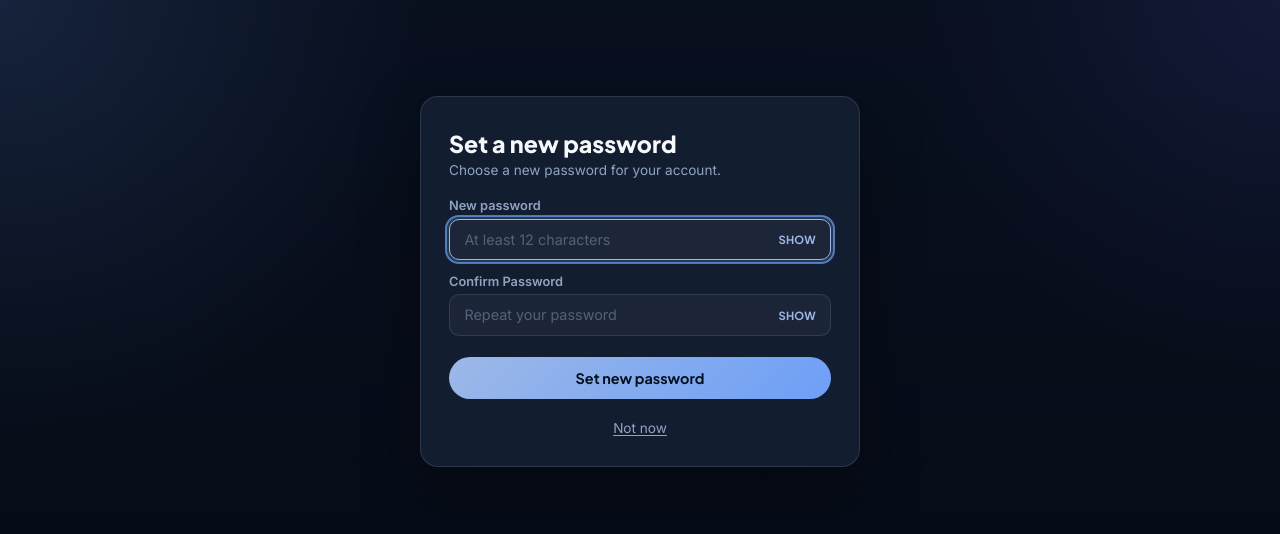
Test: ResetPassword page › shows a translated message, not the raw server text, when the update fails
Type "N3w!Password-ok" into the password field labelled "New password Show". click: (640, 239)
box: [449,219,831,260]
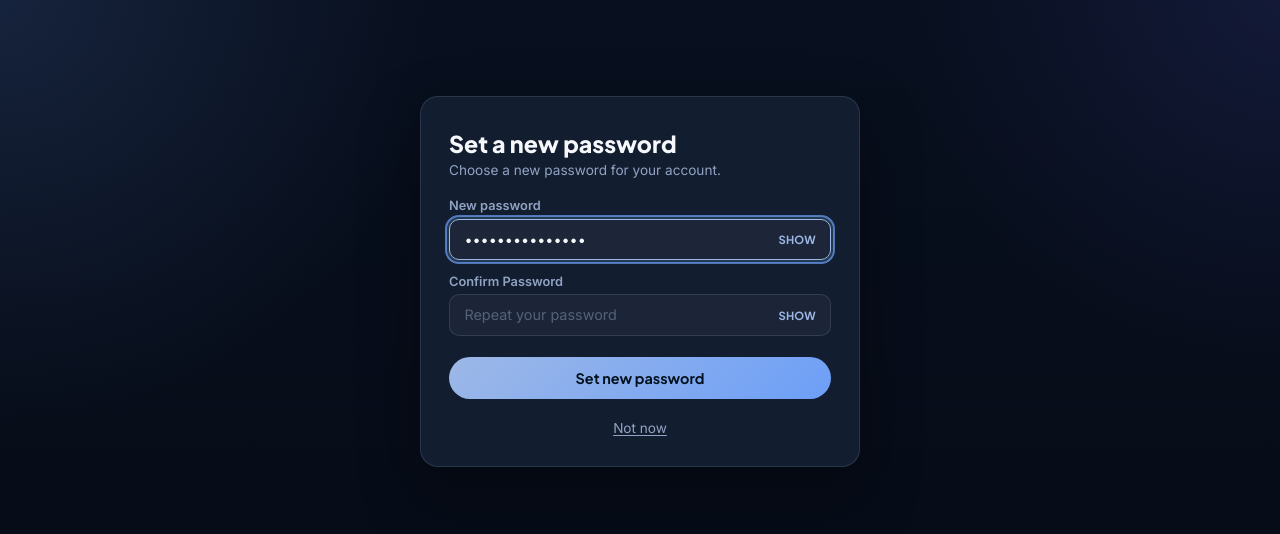
Type "N3w!Password-ok" into the password field labelled "Confirm Password Show". click: (640, 315)
box: [449,294,831,336]
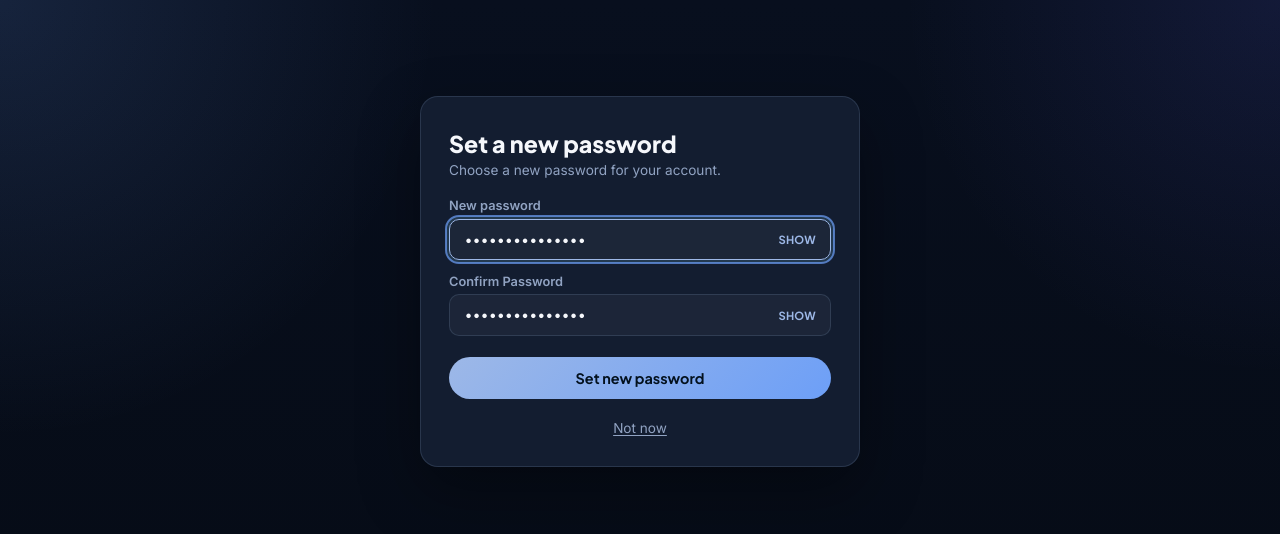
Click the button "Set new password". click: (640, 378)
box: [449,357,831,399]
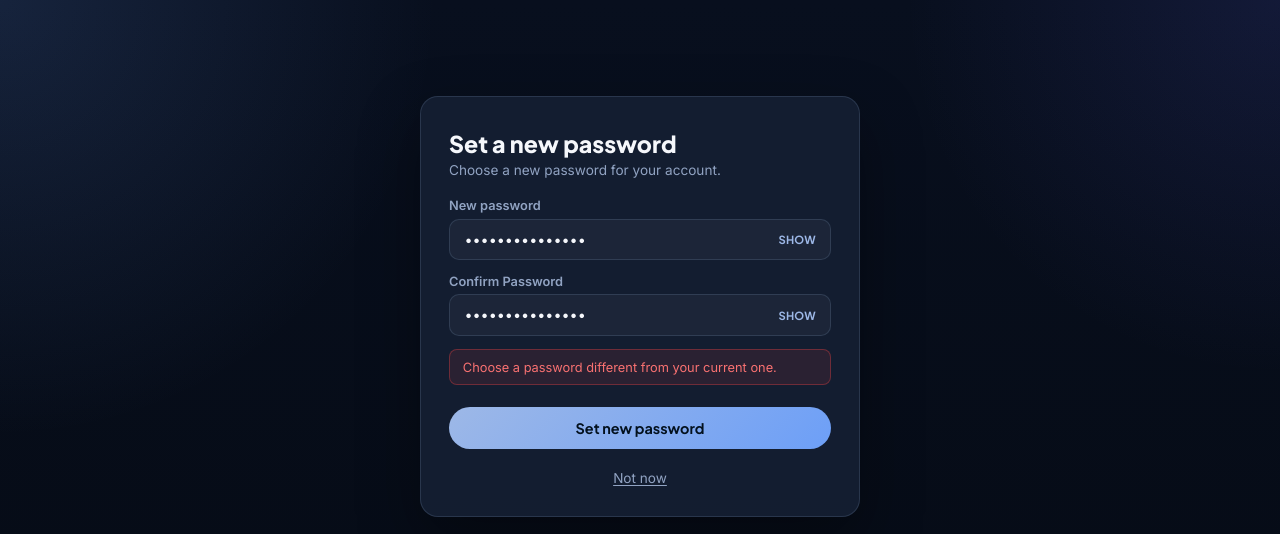
Expected: the message does not show "RAW SERVER TEXT", [449,349,831,385]
Expected: the message reads "Choose a password different from your current one.", [463,360,777,375]
